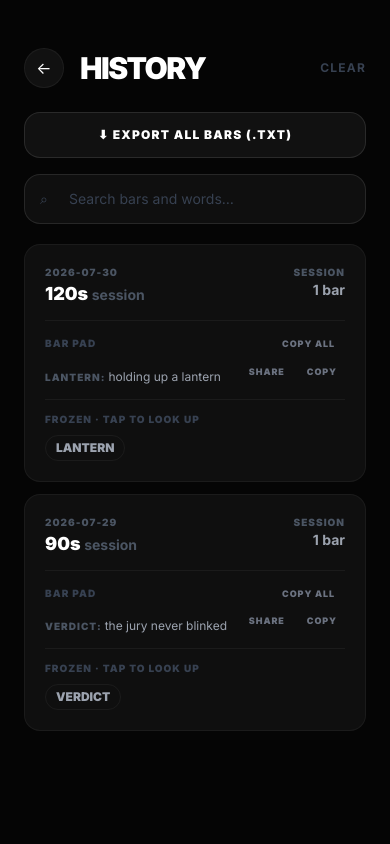
Test: History search › matches on a frozen word as well as written text
This screenshot has width=390, height=844.
In the search field named "Search session history": (195, 199) [24, 174, 366, 224], type "verdict"
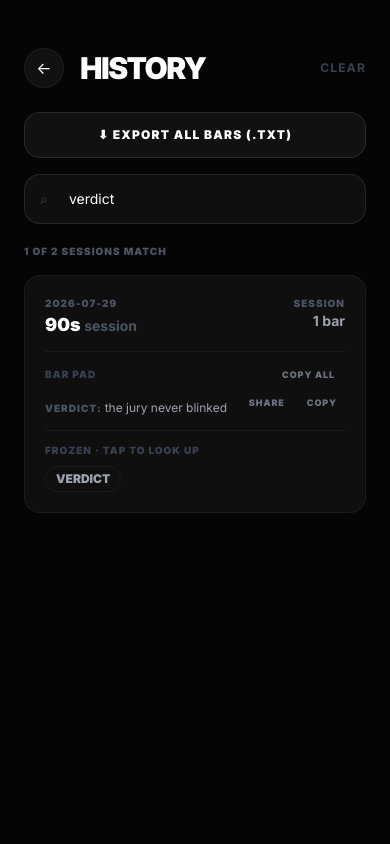
Expected: the text "1 of 2 sessions match" is shown, [24, 245, 167, 257]
